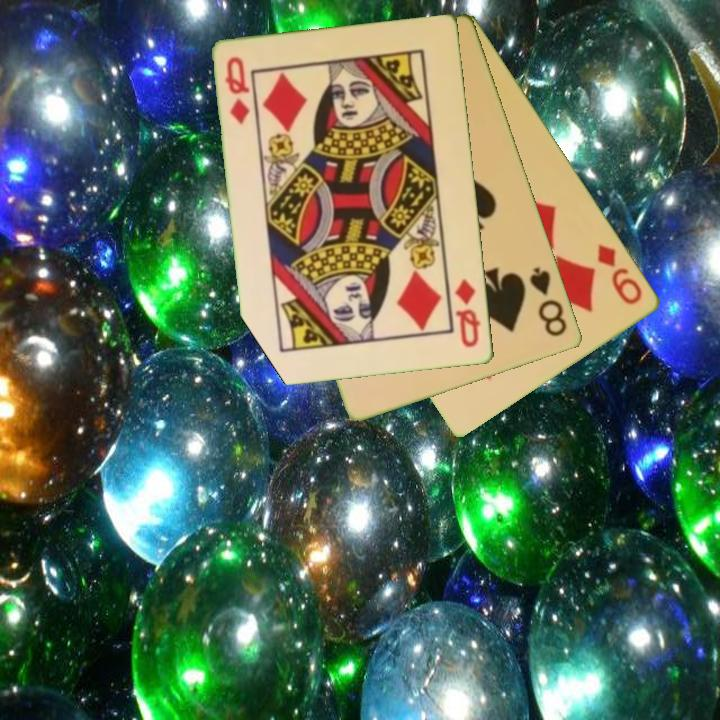8s: (526, 263, 571, 340)
9d: (594, 241, 646, 308)
Qd: (452, 275, 484, 351), (222, 53, 254, 128)
